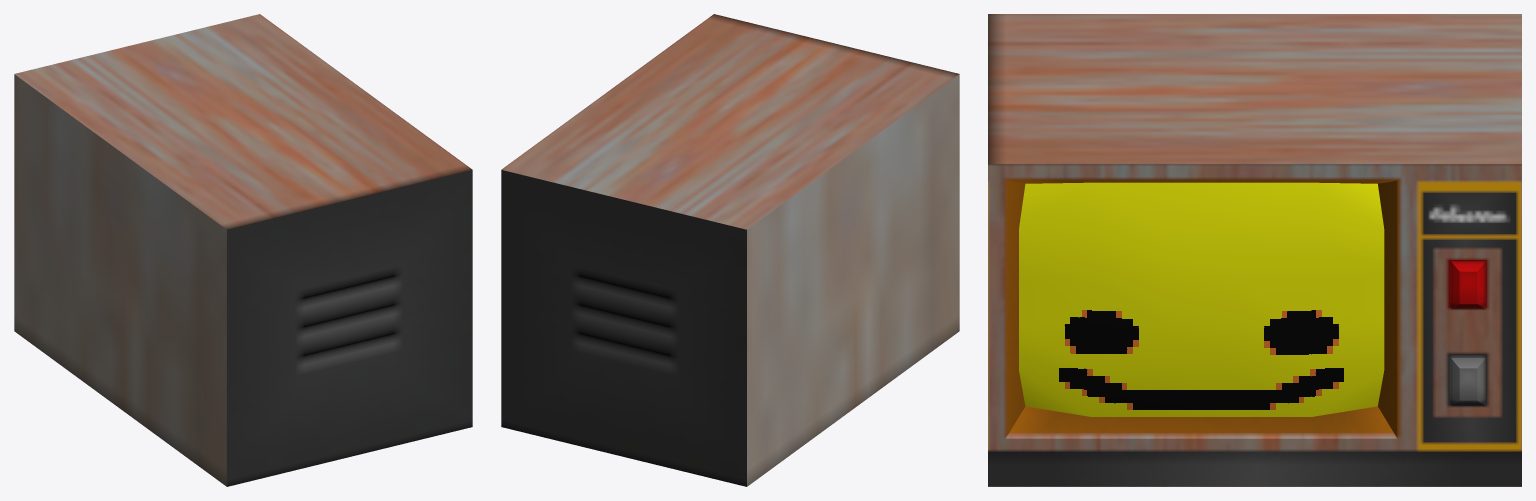
The model's file is tvtextured.fbx.
The picture shows the model from 3 angles, left to right: view 1: azimuth 30°, elevation 25°; view 2: azimuth 150°, elevation 25°; view 3: azimuth 270°, elevation 25°; orthographic projection. The views are drawn at different scales.
Parts seen in each view (by area): view 1: Box001; view 2: Box001; view 3: Box001.
Boxes of the visible parts, x1,y1,x2,y2 form: Box001: (14,14,472,486); Box001: (501,14,959,486); Box001: (988,14,1521,486).
Bounding box in the file's own units: 4.06 × 4 × 6.
Materials: 2 (2 with a texture image).
